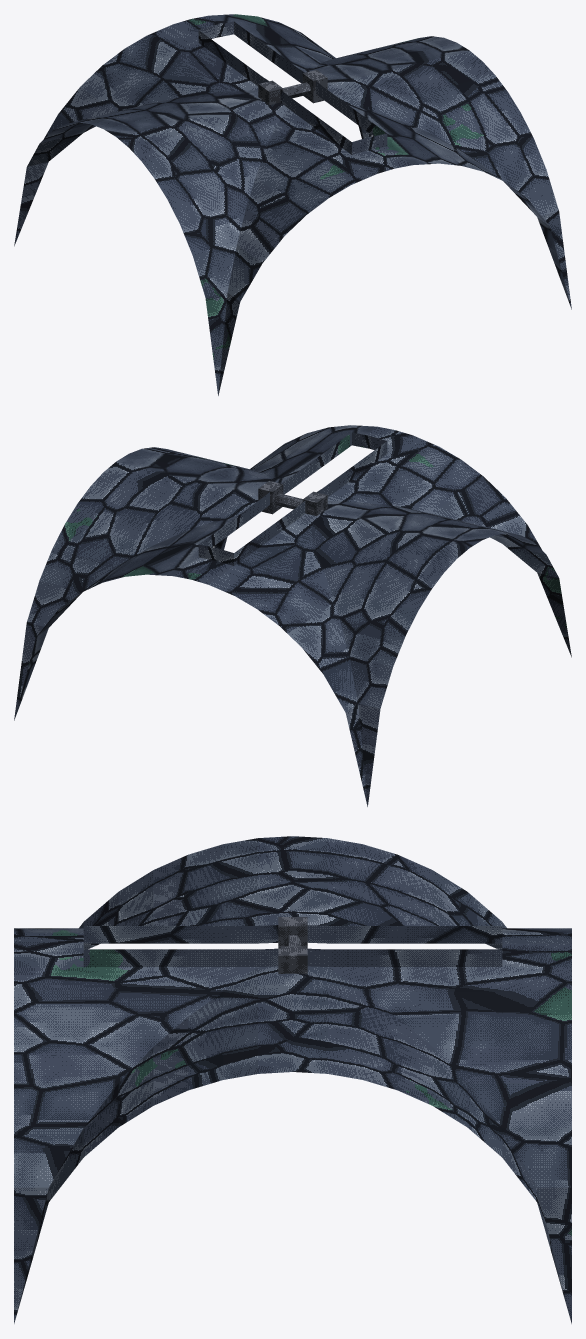
File: SM_Env_CeilingPendulumSlot_4x4.glb
The picture shows the model from 3 angles, top to bottom: view 1: azimuth 30°, elevation 25°; view 2: azimuth 150°, elevation 25°; view 3: azimuth 270°, elevation 25°; orthographic projection. The views are drawn at different scales.
Visible parts, largest first — view 1: vault, iron_mount_1; view 2: vault, iron_mount_1; view 3: vault, iron_mount_1, iron_mount_-1.
Boxes of the visible parts, box(x1,y1,x2,y2) form: vault: box(14, 14, 571, 395); iron_mount_1: box(302, 70, 327, 103); vault: box(14, 425, 571, 806); iron_mount_1: box(258, 481, 283, 514); vault: box(14, 836, 571, 1323); iron_mount_1: box(278, 946, 307, 973); iron_mount_-1: box(278, 917, 307, 946).
Bounding box in the file's own units: 4 × 2.14 × 4.
1 material, 1 textured.
